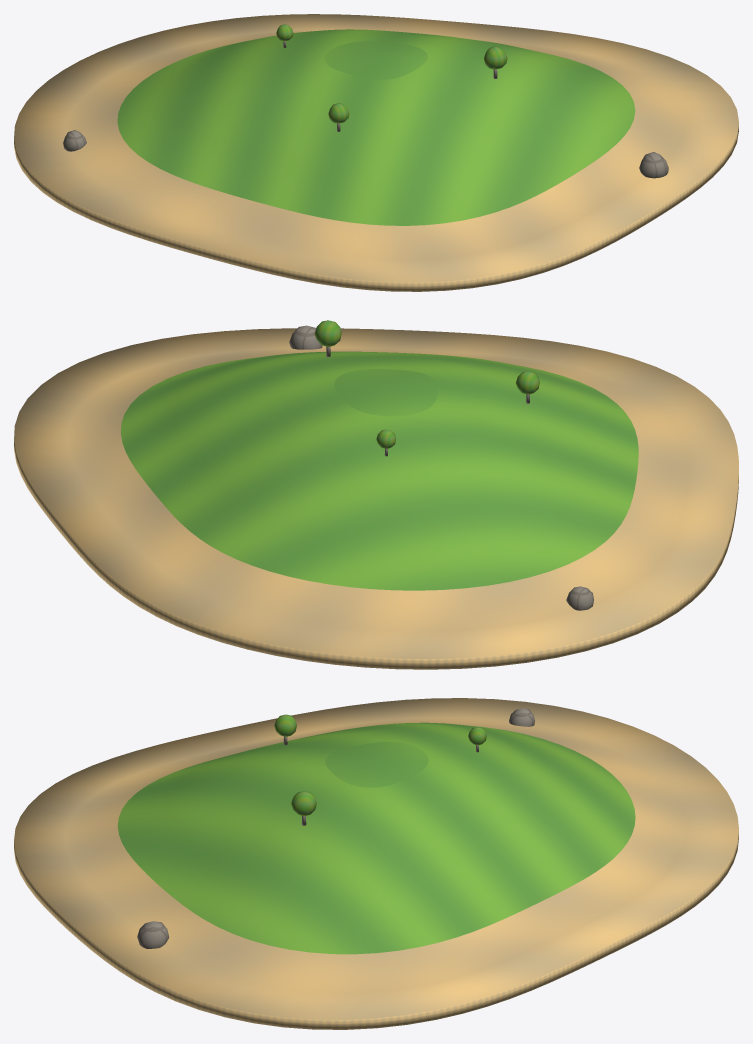
File: ISL-M_LOD0.fbx
3 renders of one model, top to bottom at view 1: azimuth 30°, elevation 25°; view 2: azimuth 150°, elevation 25°; view 3: azimuth 270°, elevation 25°, orthographic. The views are drawn at different scales.
Visible parts, largest first — view 1: ISL-M_LOD0; view 2: ISL-M_LOD0; view 3: ISL-M_LOD0.
Boxes of the visible parts, bbox=[...] form: ISL-M_LOD0: bbox=[14, 14, 738, 291]; ISL-M_LOD0: bbox=[14, 320, 738, 669]; ISL-M_LOD0: bbox=[14, 698, 738, 1029].
Bounding box in the file's own units: 105 × 99.49 × 17.64.
